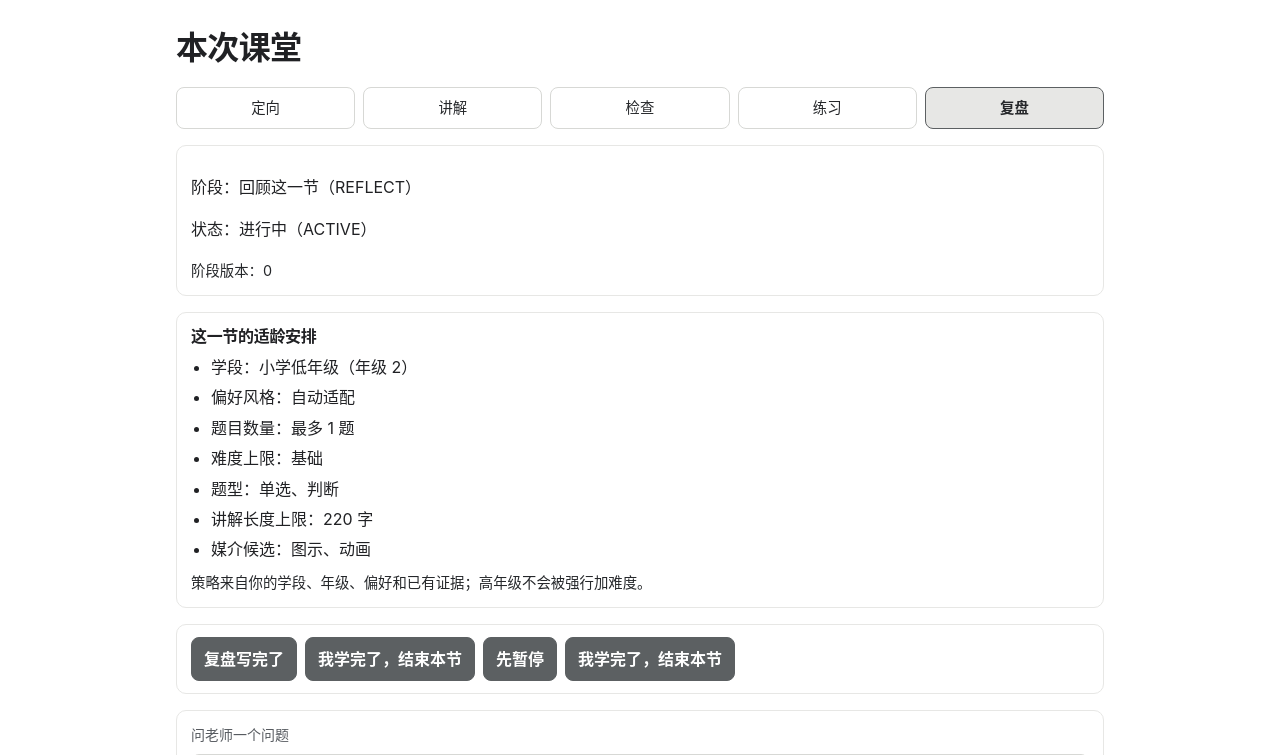
Test case: LessonPage › reports a refused completion instead of showing success
Click the button with test id "action-complete". click: [390, 659]
box: [305,637,475,681]
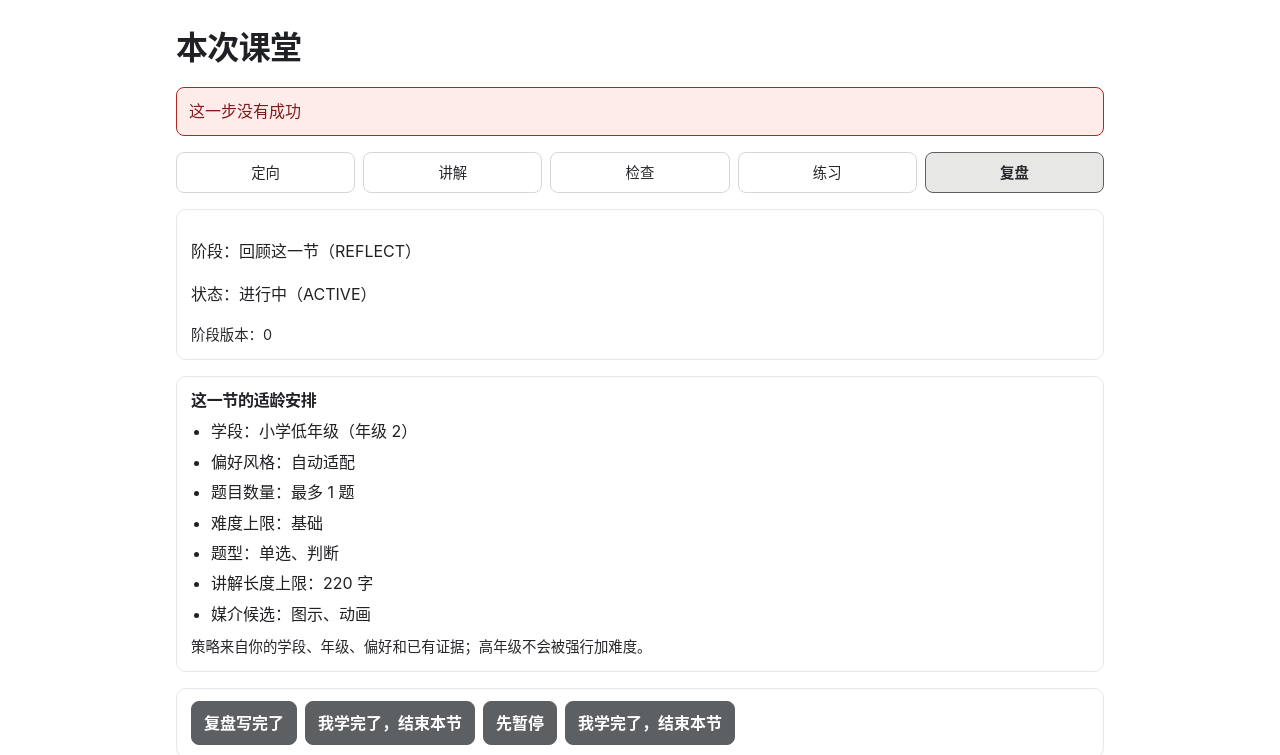
Expected: the text with test id "lesson-lifecycle" shows "进行中", [239,284,287,304]
Now the message "这一步没有成功" is shown, box [176,87,1104,136]
